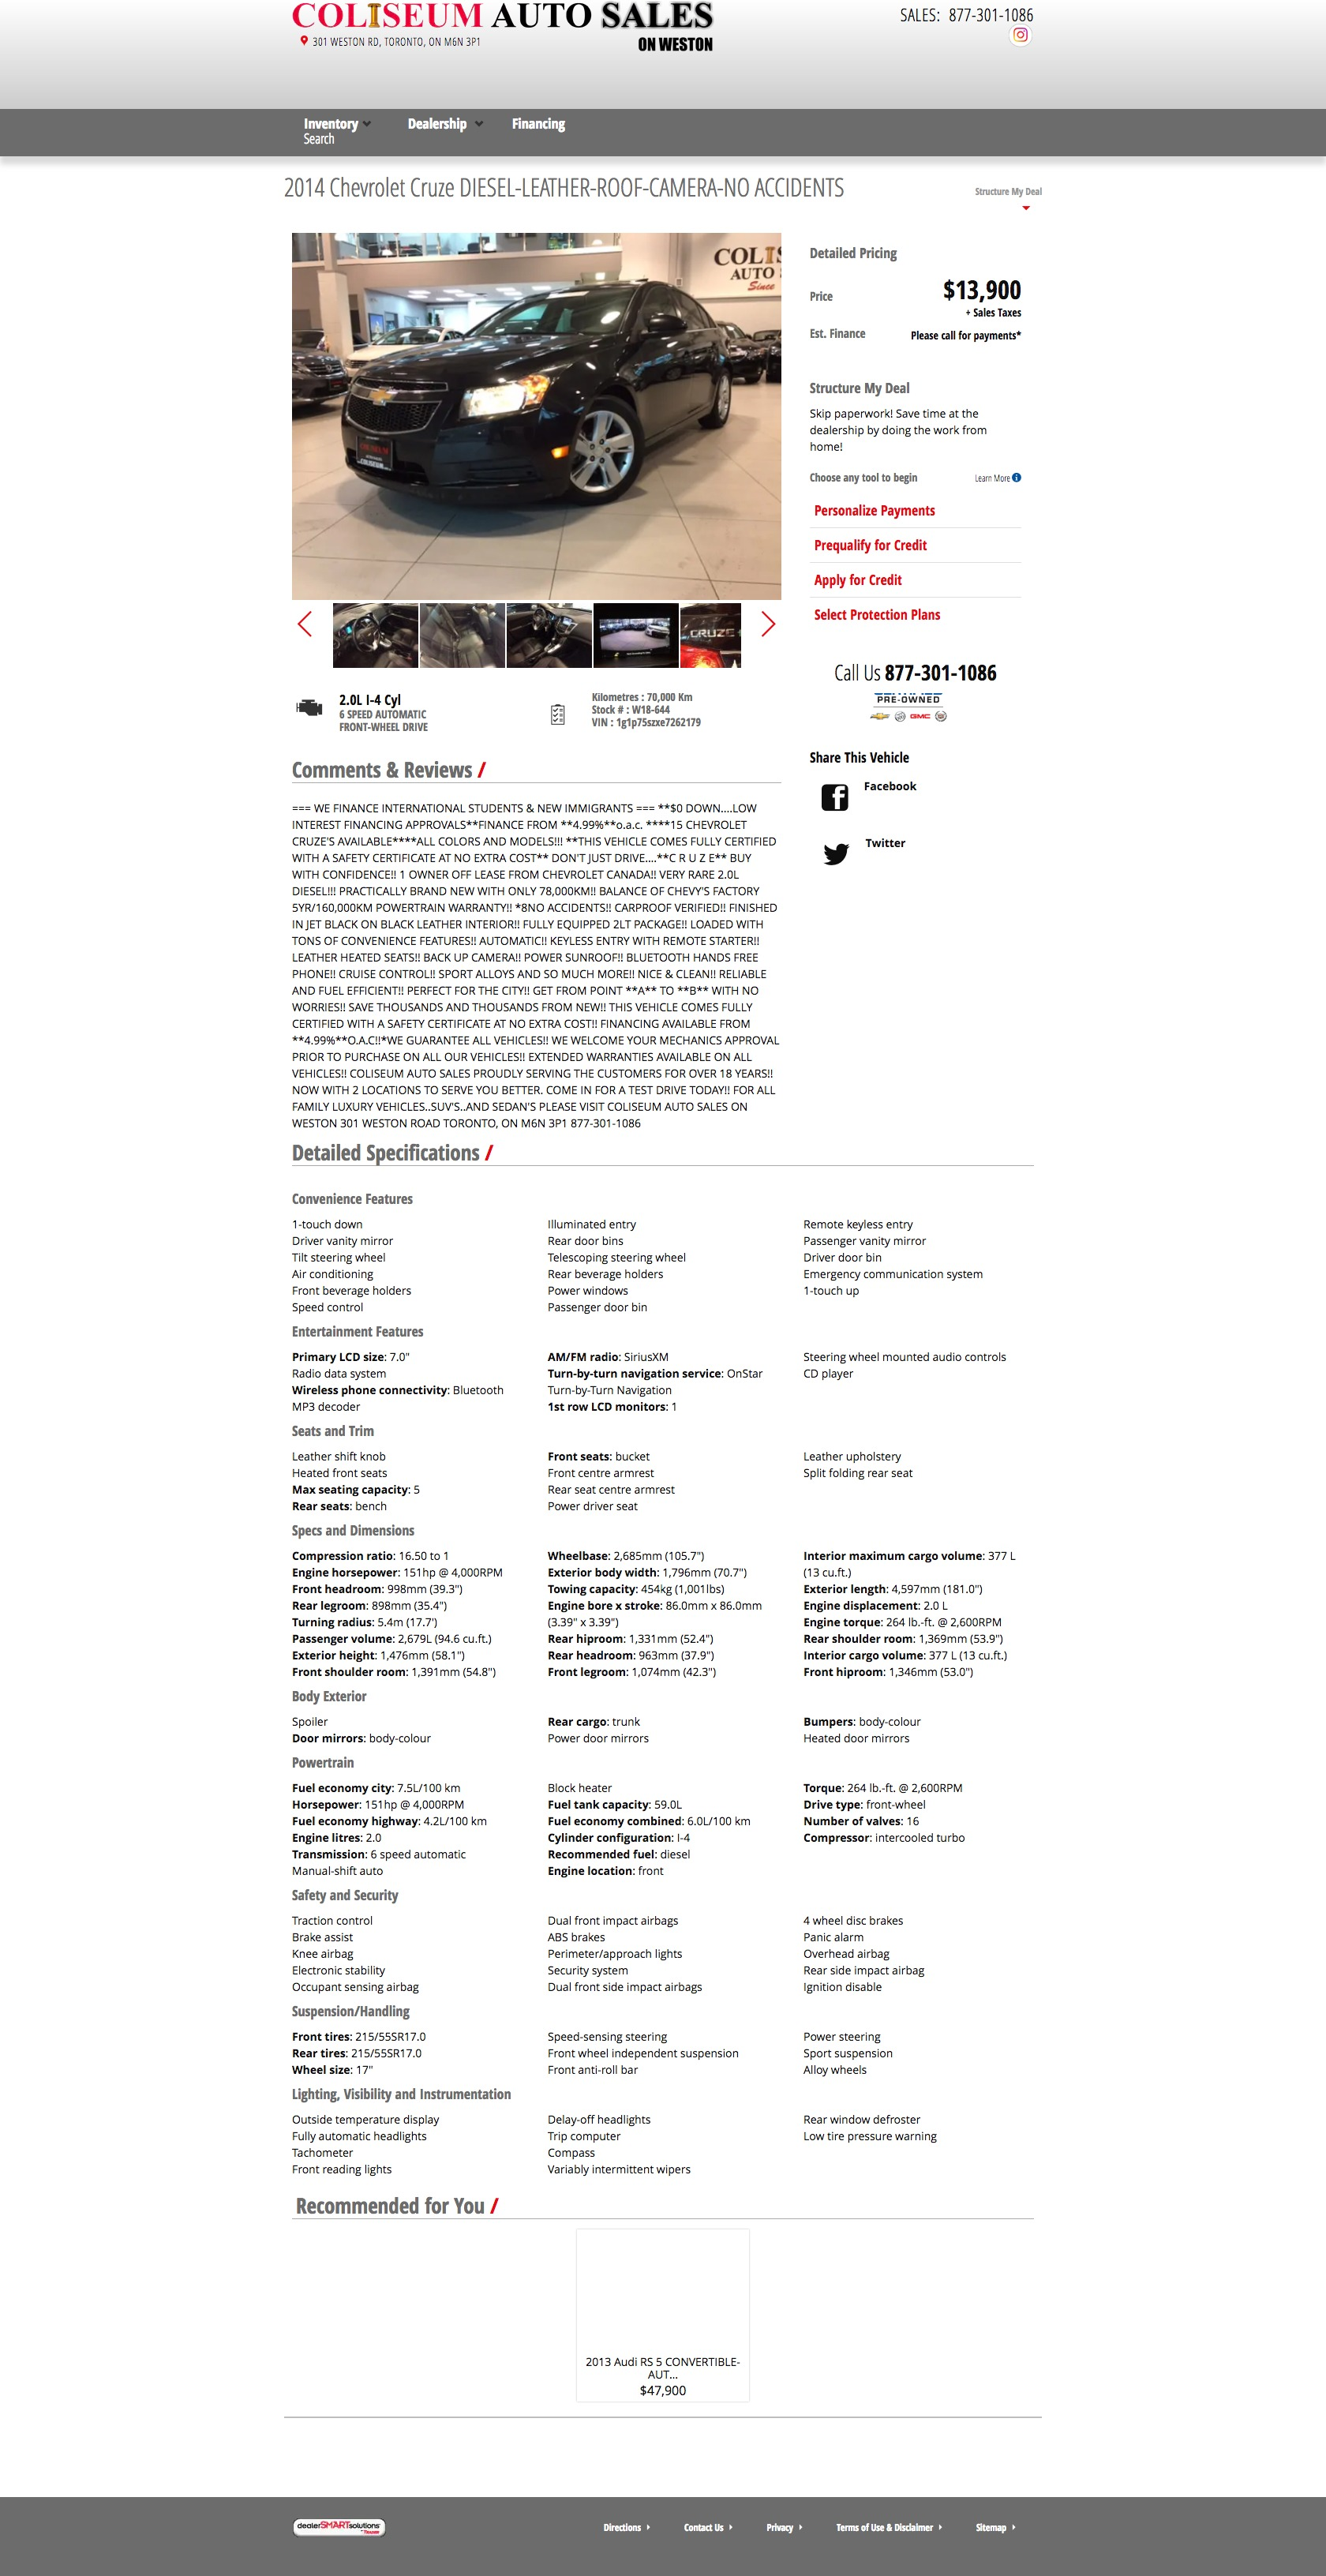car: (761, 611, 776, 639)
